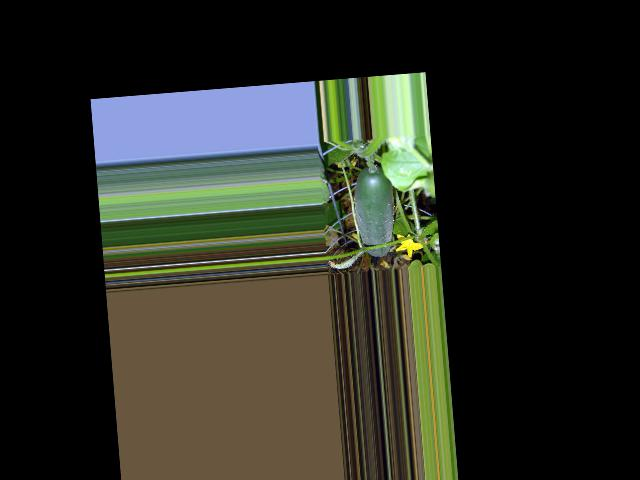cucumber: (350, 164, 397, 258)
